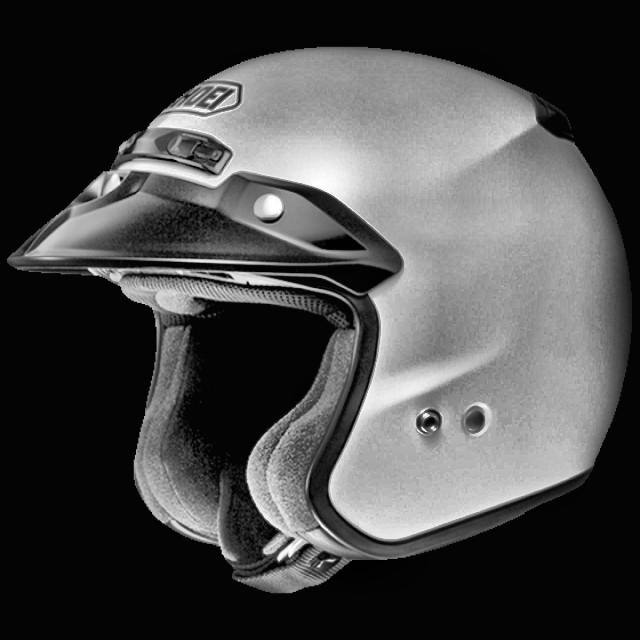Helmet: (9, 24, 631, 614)
